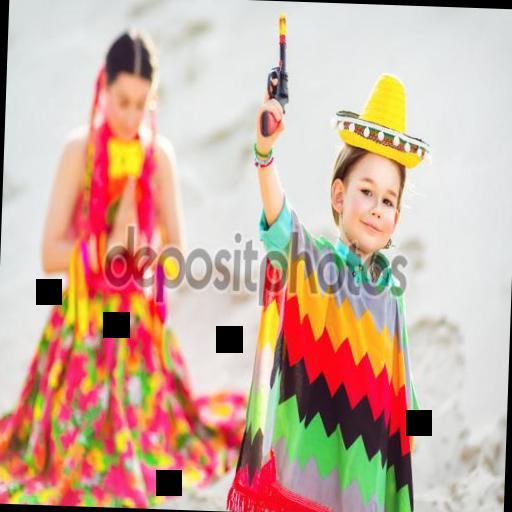Handgun: (252, 10, 300, 133)
